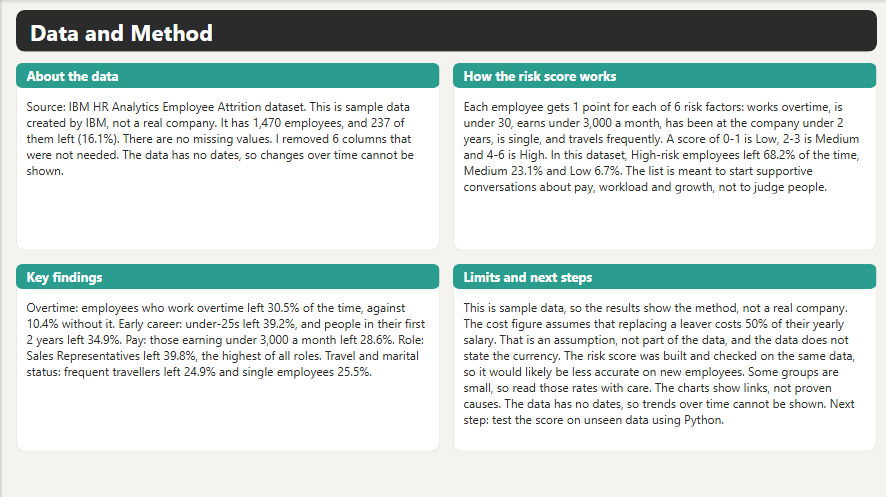

What the dashboard file says about the page in this screenshot:
{"tool":"powerbi","page":{"name":"Data and Method","canvas":[1280,720],"ordinal":3},"visuals":[{"type":"shape","box":[20,15,1240,60],"z":0},{"type":"shape","box":[20,90,610,270],"z":1},{"type":"shape","box":[20,90,610,36],"z":2},{"type":"shape","box":[650,90,610,270],"z":3},{"type":"shape","box":[650,90,610,36],"z":4},{"type":"shape","box":[20,380,610,270],"z":5},{"type":"shape","box":[20,380,610,36],"z":6},{"type":"shape","box":[650,380.7,610,270],"z":7},{"type":"shape","box":[650,380.2,610,36],"z":8}]}

Visuals, with their boxes in screenshot pixels (x1, y1, x2, y2), scaled from the page's 1280x720 canvas onto the 886x497 screenshot:
shape: 14, 10, 872, 52
shape: 14, 62, 436, 248
shape: 14, 62, 436, 87
shape: 450, 62, 872, 248
shape: 450, 62, 872, 87
shape: 14, 262, 436, 449
shape: 14, 262, 436, 287
shape: 450, 263, 872, 449
shape: 450, 262, 872, 287
